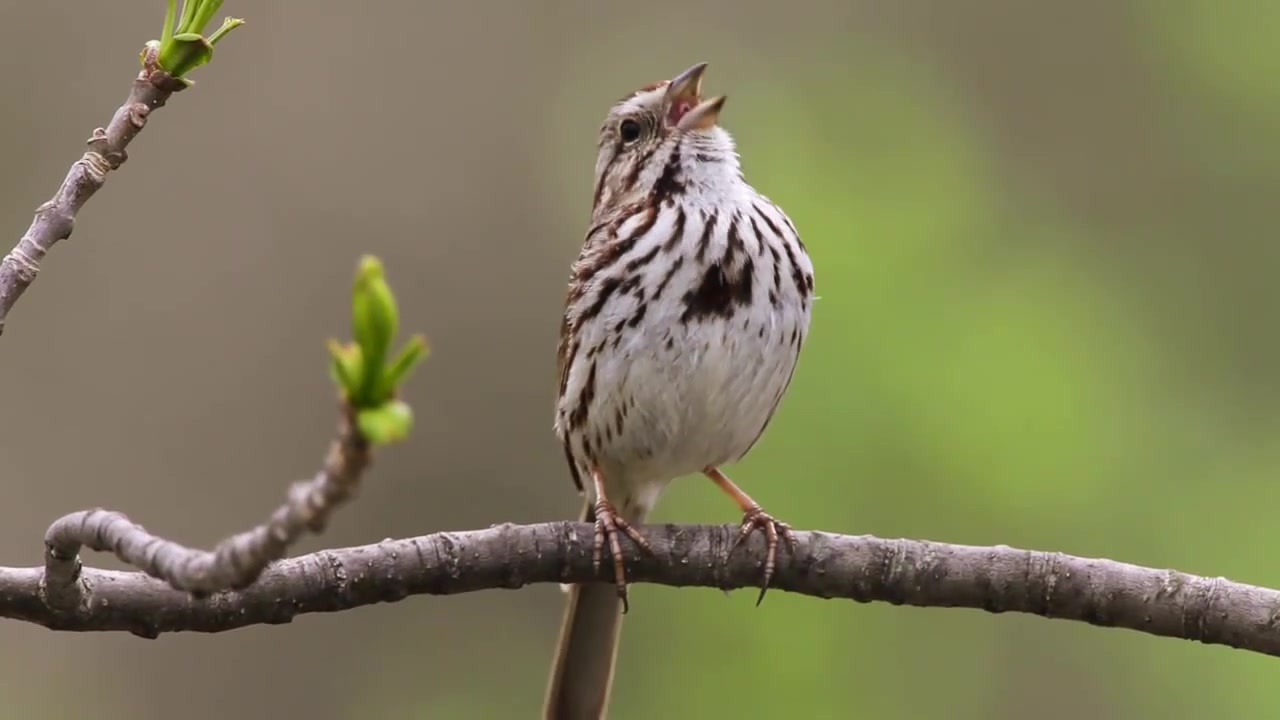bird: (539, 64, 827, 720)
